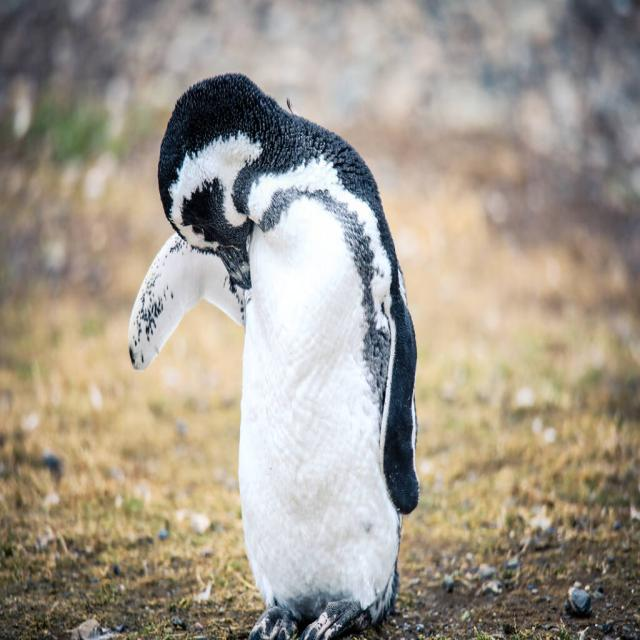Penguins: (154, 57, 416, 632)
